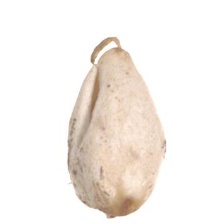L1: (90, 35, 124, 98), (97, 198, 145, 218)
L2: (66, 36, 166, 218)
